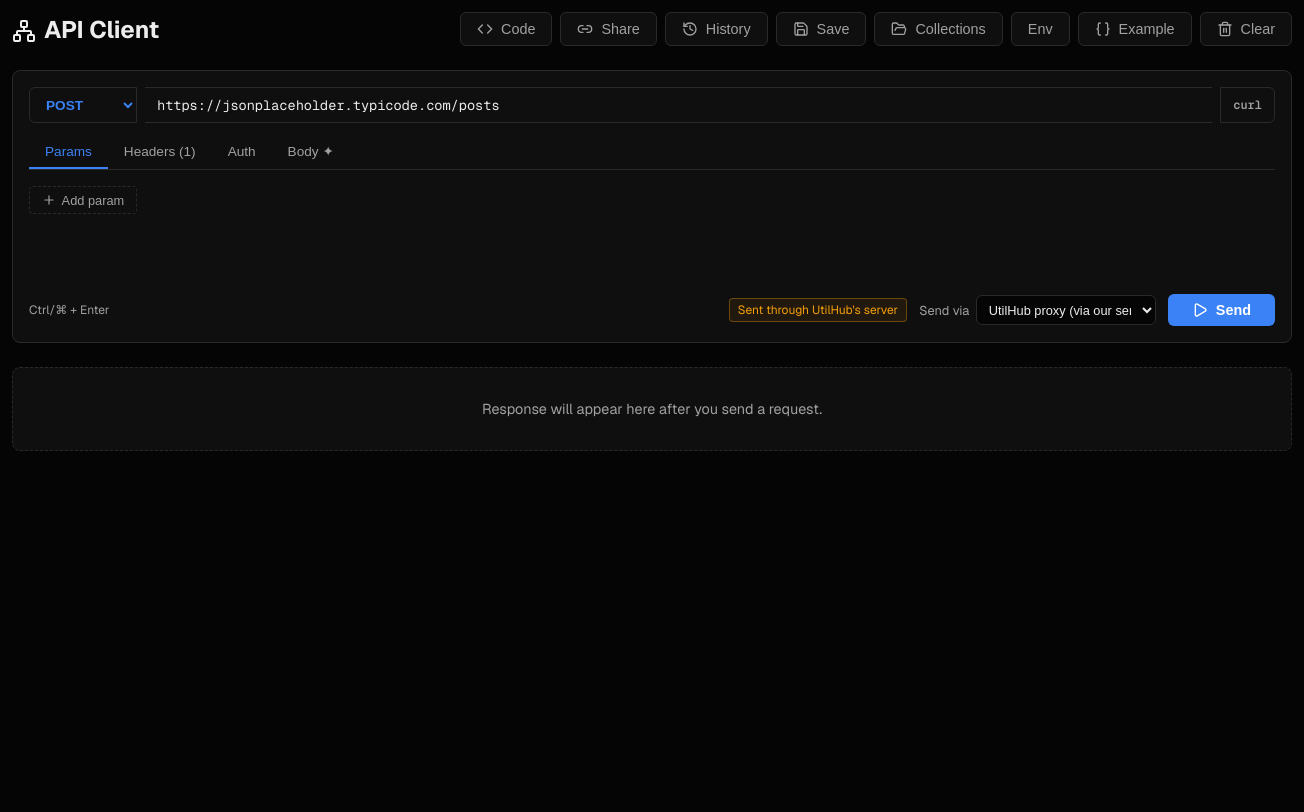
it: CurlTester › shows response metadata after send
Click the button "Send" at (1221, 310), box [1168,294,1275,326]
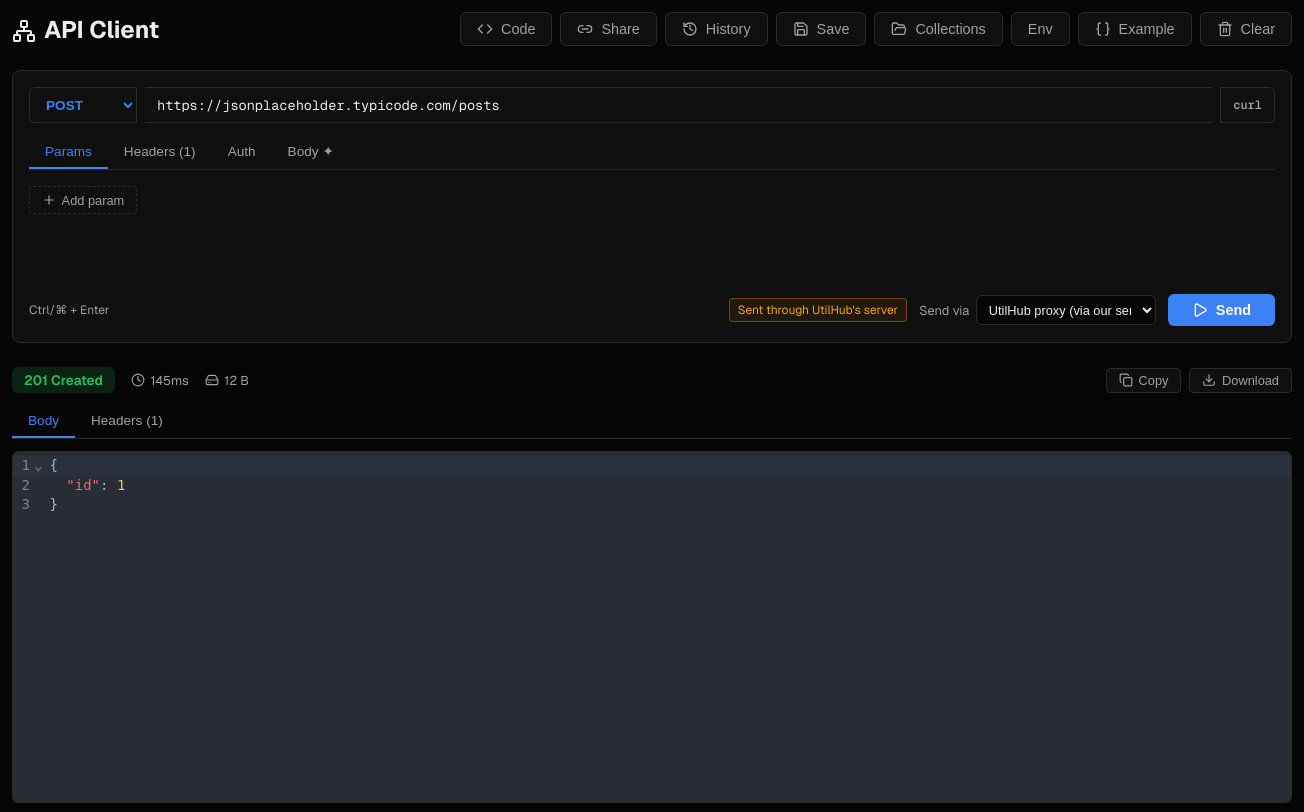
Result: the text "201 Created" is shown at [12,367,115,393]
Result: the element titled "Response size" reads "12 B" at [224,372,249,388]
Result: the button "Download" is shown at [1190,368,1292,392]
